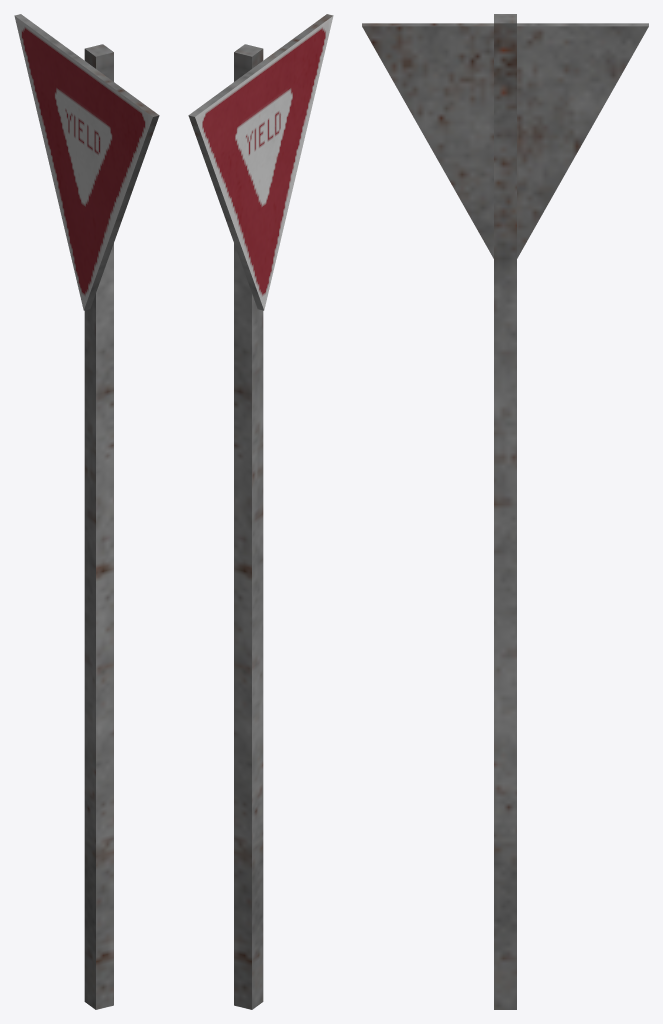
The model's file is Sign_Yield.obj.
The picture shows the model from 3 angles, left to right: view 1: azimuth 30°, elevation 25°; view 2: azimuth 150°, elevation 25°; view 3: azimuth 270°, elevation 25°; orthographic projection. The views are drawn at different scales.
Visible parts, largest first — view 1: Sign_Yield; view 2: Sign_Yield; view 3: Sign_Yield.
Boxes of the visible parts, x1=… form: Sign_Yield: x1=14, y1=14, x2=159, y2=1009; Sign_Yield: x1=188, y1=14, x2=333, y2=1009; Sign_Yield: x1=362, y1=14, x2=648, y2=1009.
Size of the model in its own units: 0.0576 by 2.12 by 0.5574.
